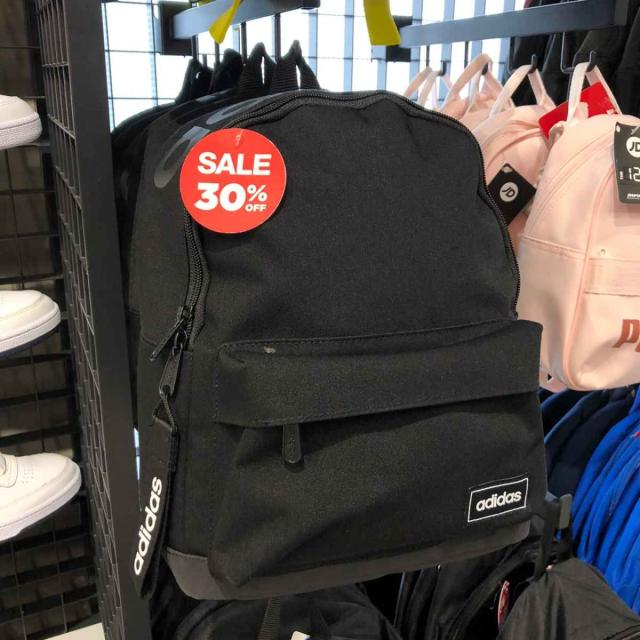Handbag: (136, 84, 526, 603)
